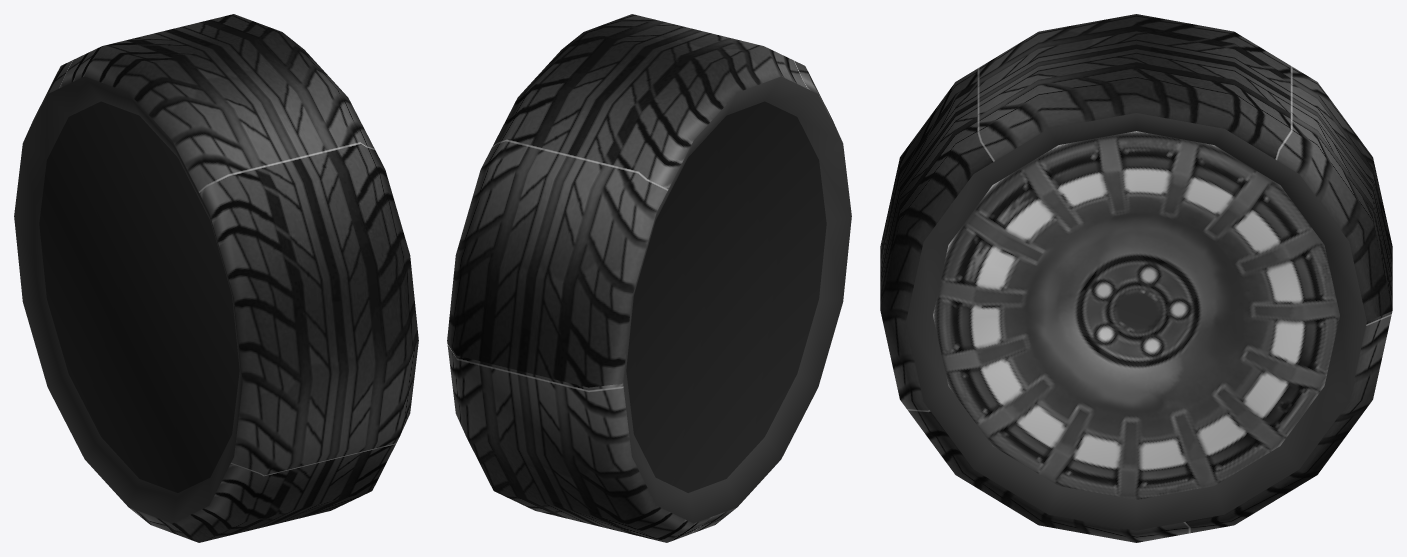
File: wheel10.fbx
The picture shows the model from 3 angles, left to right: view 1: azimuth 30°, elevation 25°; view 2: azimuth 150°, elevation 25°; view 3: azimuth 270°, elevation 25°; orthographic projection.
Parts seen in each view (by area): view 1: Cylinder; view 2: Cylinder; view 3: Cylinder.
Part boxes in pixels (x1=…): Cylinder: x1=14, y1=14, x2=418, y2=542; Cylinder: x1=447, y1=14, x2=851, y2=542; Cylinder: x1=880, y1=14, x2=1392, y2=542.
Bounding box in the file's own units: 80 × 200 × 200.
Materials: 1 (1 with a texture image).
